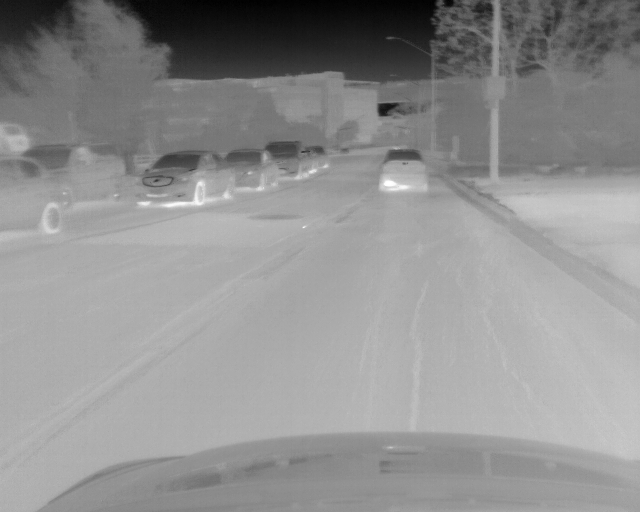car: (20, 142, 123, 200), (135, 149, 235, 207), (1, 156, 63, 234), (227, 147, 275, 190), (379, 147, 426, 190), (268, 141, 309, 181), (309, 147, 328, 176)
